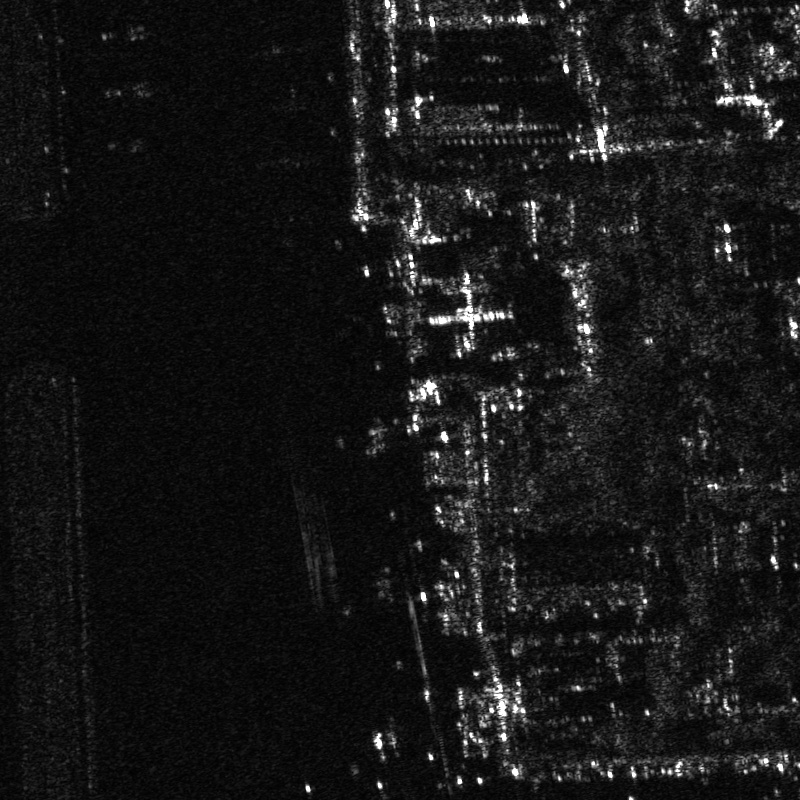ARJ21: (98, 68, 167, 112), (95, 12, 158, 55)
other: (103, 126, 159, 165)
